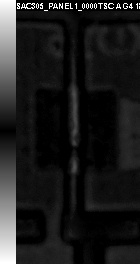led: (36, 89, 118, 171)
